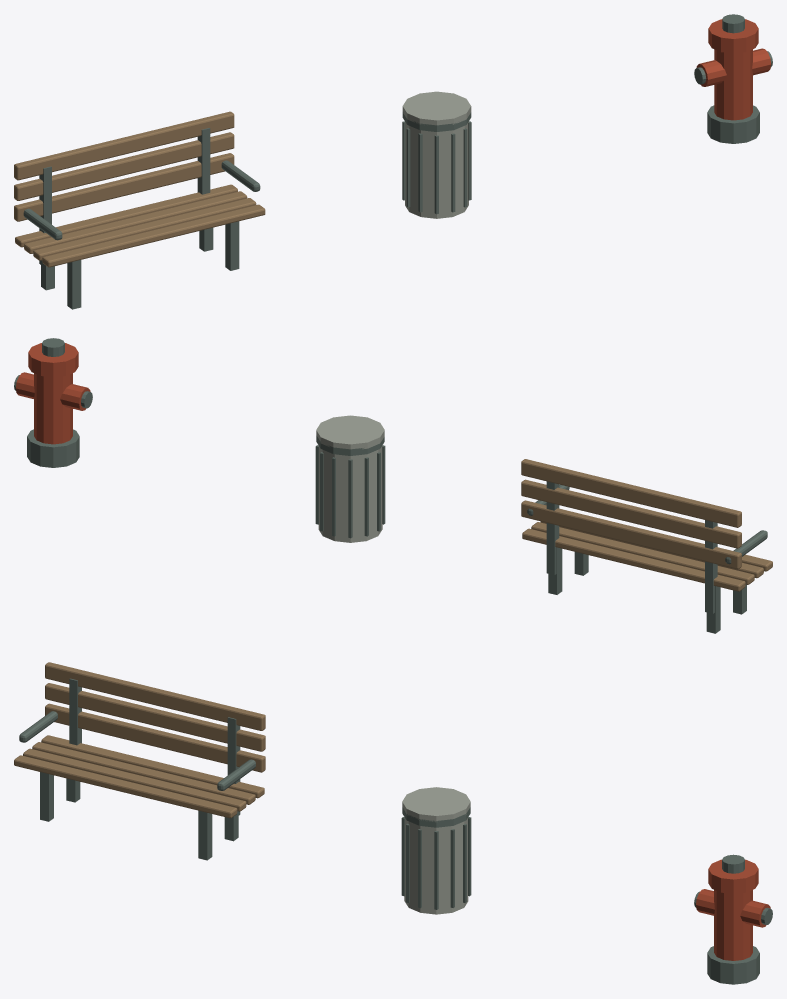
File: streetside.glb
The picture shows the model from 3 angles, top to bottom: view 1: azimuth 30°, elevation 25°; view 2: azimuth 150°, elevation 25°; view 3: azimuth 330°, elevation 25°; orthographic projection.
Visible parts, largest first — view 1: seat slat, bench leg, litter bin, hydrant body; view 2: seat slat, bench leg, litter bin, hydrant body; view 3: seat slat, bench leg, litter bin, hydrant body.
Part boxes in pixels (left/top/right/bottom): seat slat: left=14, top=111, right=265, bottom=267; bench leg: left=23, top=14, right=772, bottom=309; litter bin: left=402, top=91, right=471, bottom=218; hydrant body: left=696, top=19, right=771, bottom=120; seat slat: left=521, top=459, right=772, bottom=591; bench leg: left=14, top=338, right=767, bottom=633; litter bin: left=316, top=415, right=384, bottom=542; hydrant body: left=15, top=343, right=90, bottom=444; seat slat: left=14, top=662, right=265, bottom=818; bench leg: left=19, top=678, right=772, bottom=984; litter bin: left=402, top=787, right=470, bottom=914; hydrant body: left=696, top=859, right=770, bottom=960.
Bounding box in the file's own units: 7.46 × 1.23 × 0.65.
